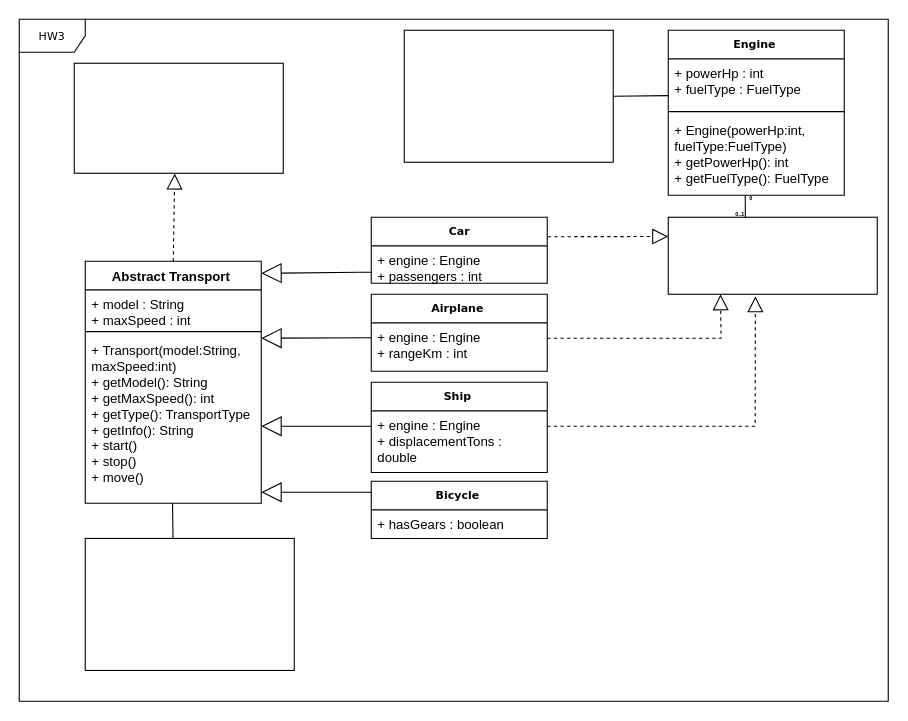
This 908x721 diagram has some shape labels left out. The shapes that lost their labels are listed below. From the top down, each one's centre as x and y in pixels, then its label:
the point at 508,95: <<enumeration>> FuelType + GASOLINE + DIESEL + ELECTRICITY + KEROSENE + NONE
the point at 178,117: <<Interface>> Movable + start() + stop() + move()
the point at 772,255: <<Interface>> HasEngine + getEngine(): Engine
the point at 189,603: <<enumeration>> TransportType + CAR + AIRPLANE + SHIP + BICYCLE
